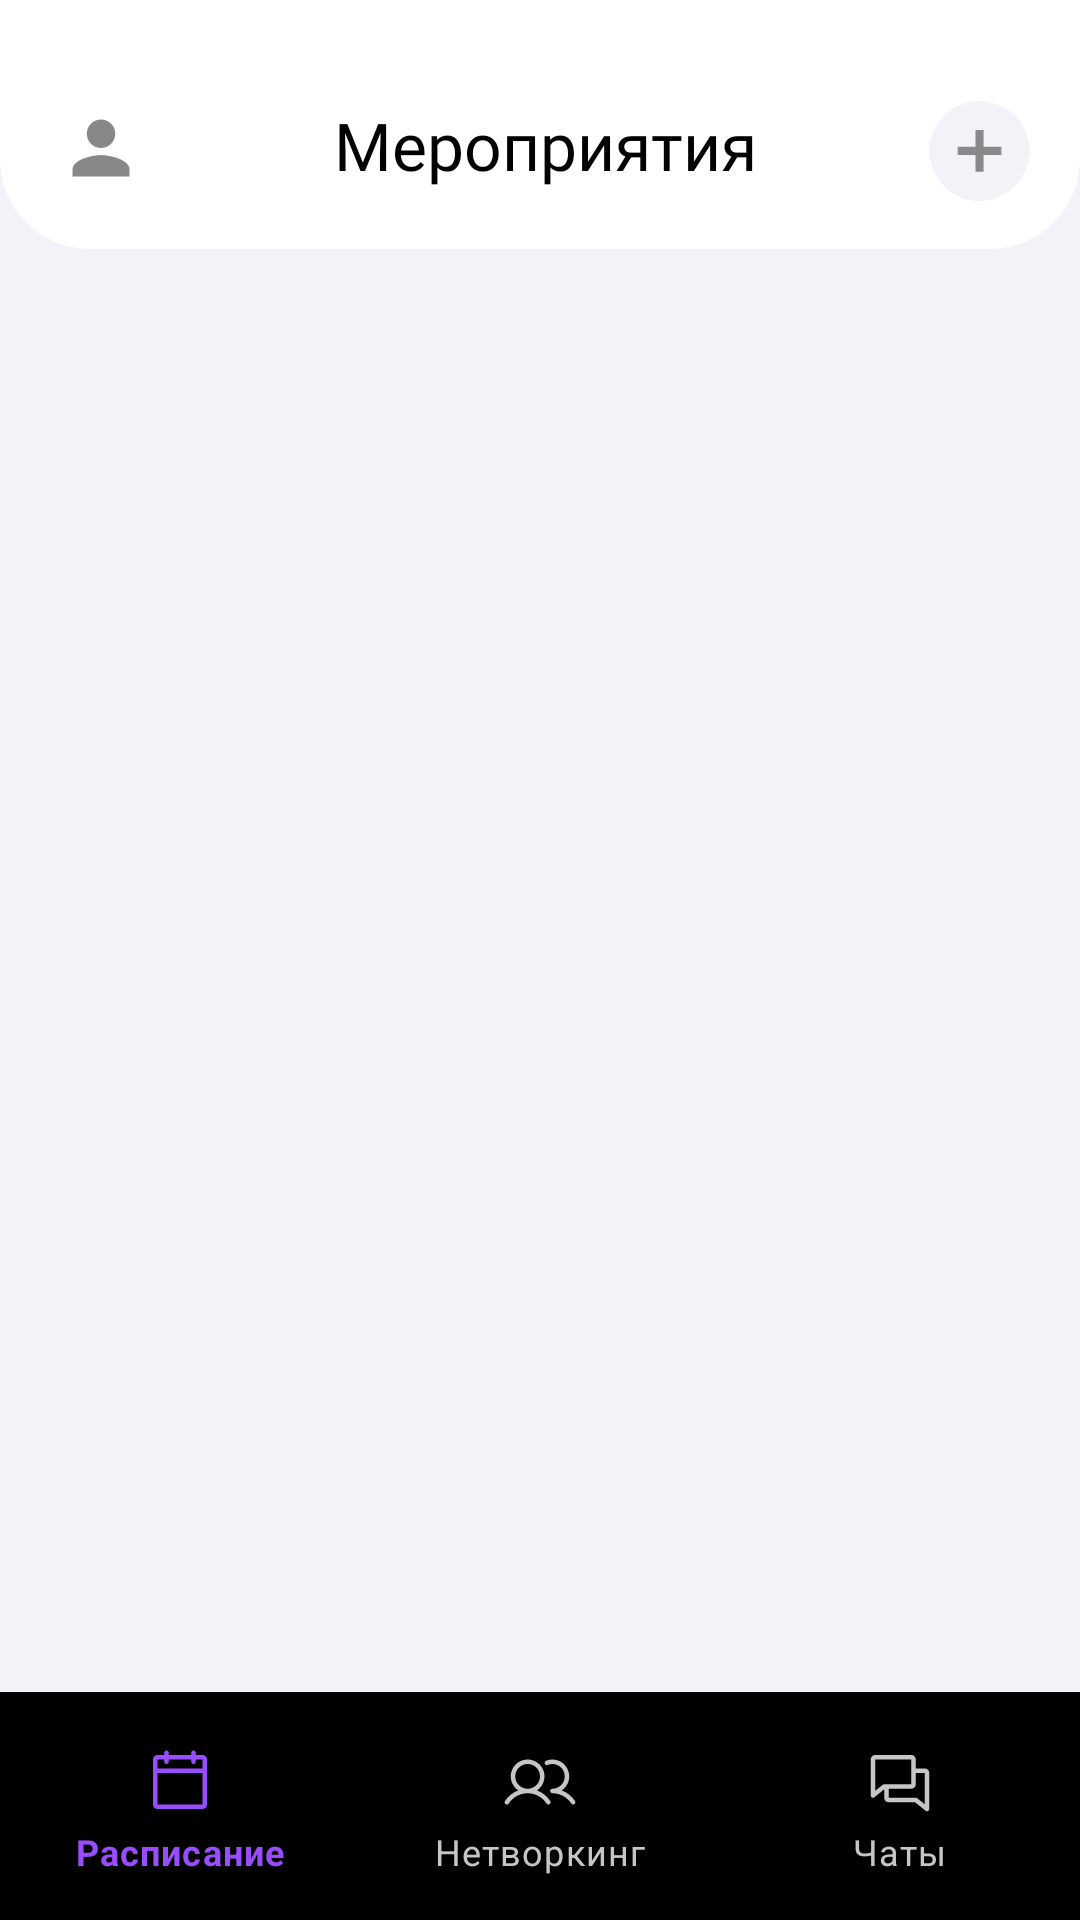

Icon click points for this 1080*1920 phone screenshot, format (x=x, y=y):
add event: (x=979, y=151)
profile: (x=101, y=148)
